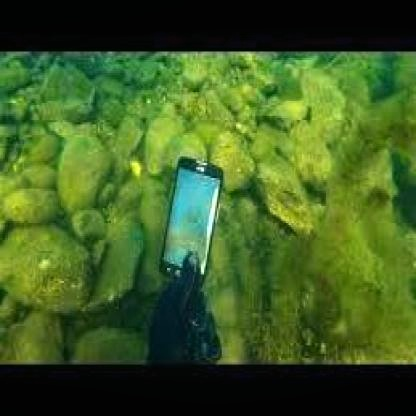cellphone: (159, 154, 223, 286)
